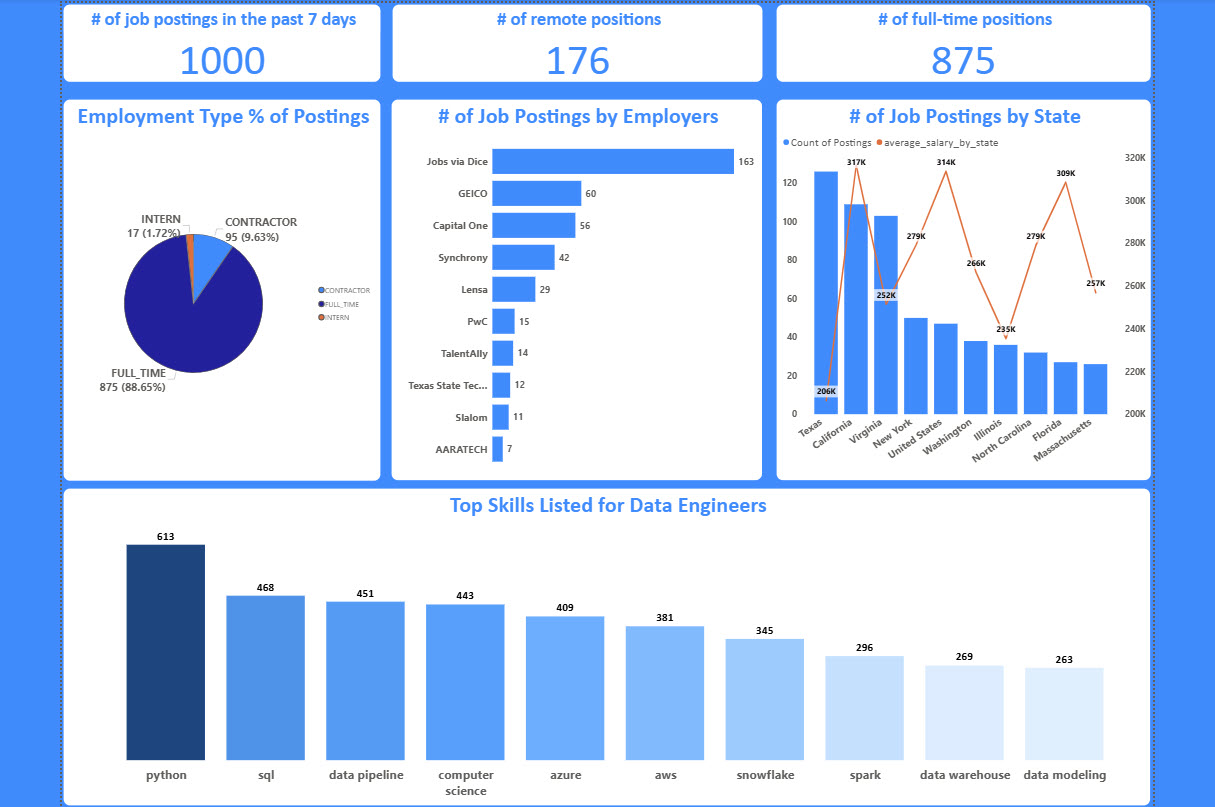

The page's visual inventory and layout, read from the dashboard file:
{"tool":"powerbi","page":{"name":"ggfd","canvas":[2034,1500],"ordinal":0},"visuals":[{"type":"lineStackedColumnComboChart","title":"# of Job Postings by State","fields":{"Category":["Linkedin_jobs.state"],"Y":["Count(Linkedin_jobs.id)"],"Y2":["Linkedin_jobs.average_salary_by_state"]},"box":[1329.7,177,704,716.2],"z":0},{"type":"pieChart","title":"Employment Type % of Postings","fields":{"Category":["Linkedin_jobs.employment_type"],"Y":["Count(Linkedin_jobs.id)"]},"box":[0,176.7,596.7,716.7],"z":1000},{"type":"card","title":"# of job postings in the past 7 days","fields":{"Values":["Count(Linkedin_jobs.id)"]},"box":[0,0,597.3,150],"z":2000},{"type":"card","title":"# of remote positions","fields":{"Values":["Linkedin_jobs.Remote Work Count"]},"box":[613.5,0,696,150],"z":3000},{"type":"card","title":"# of full-time positions","fields":{"Values":["Linkedin_jobs.# of Full_time job postings"]},"box":[1329.7,0,704,150],"z":4000},{"type":"barChart","title":"# of Job Postings by Employers","fields":{"Category":["Linkedin_jobs.organization"],"Y":["Count(Linkedin_jobs.id)"]},"box":[612.2,177,697.3,716.2],"z":5000},{"type":"columnChart","title":"Top Skills Listed for Data Engineers","fields":{"Category":["Linkedin_jobs.skills_requirements"],"Y":["CountNonNull(Linkedin_jobs.skills_requirements)"]},"box":[0,903.3,2033.3,596.7],"z":6000}]}

Visuals, with their boxes in screenshot pixels (x1, y1, x2, y2):
"# of Job Postings by State" lineStackedColumnComboChart: 765, 94, 1139, 474
"Employment Type % of Postings" pieChart: 60, 94, 377, 474
"# of job postings in the past 7 days" card: 60, 0, 377, 80
"# of remote positions" card: 386, 0, 755, 80
"# of full-time positions" card: 765, 0, 1139, 80
"# of Job Postings by Employers" barChart: 385, 94, 755, 474
"Top Skills Listed for Data Engineers" columnChart: 60, 479, 1139, 796
